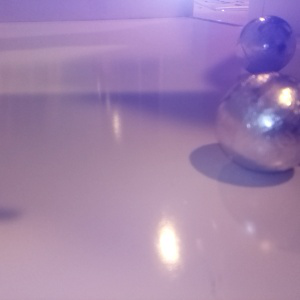alive_ball: (214, 72, 300, 172), (236, 15, 296, 75)
